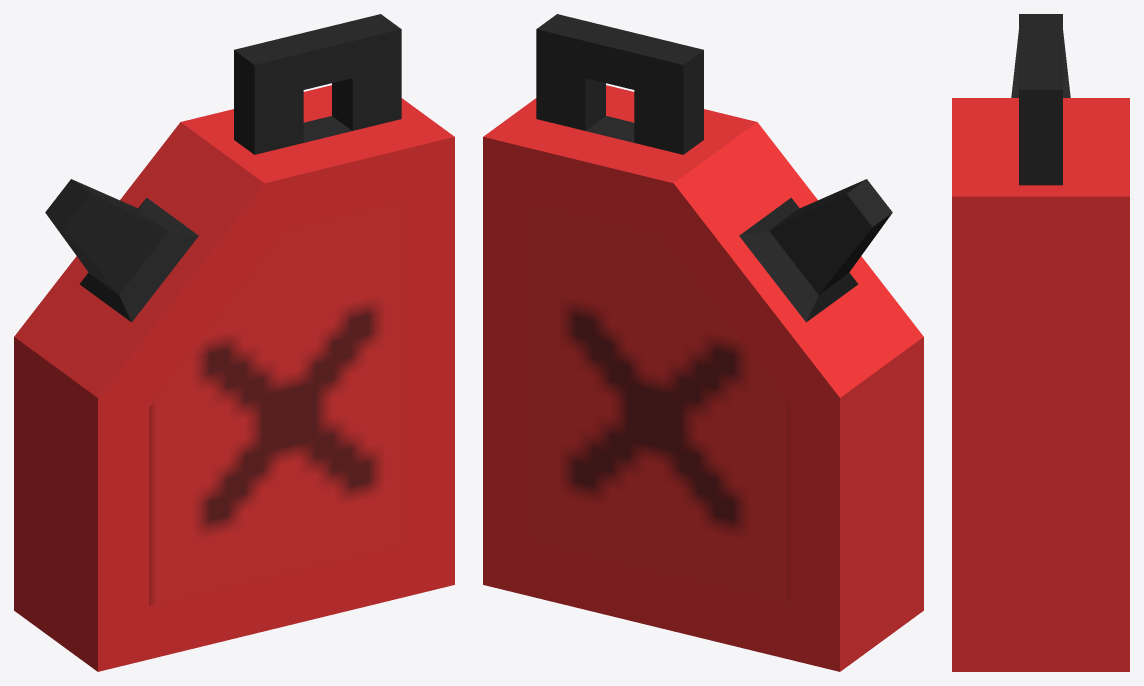
File: GasCan.fbx
3 views of the same model, side by side, from view 1: azimuth 30°, elevation 25°; view 2: azimuth 150°, elevation 25°; view 3: azimuth 270°, elevation 25° (orthographic). The views are drawn at different scales.
Visible parts, largest first — view 1: GasCan; view 2: GasCan; view 3: GasCan.
Boxes of the visible parts, left/top/right/bottom form: GasCan: left=14, top=14, right=454, bottom=671; GasCan: left=483, top=14, right=923, bottom=671; GasCan: left=952, top=14, right=1129, bottom=671.
Bounding box in the file's own units: 0.5627 × 0.8087 × 0.2283.
